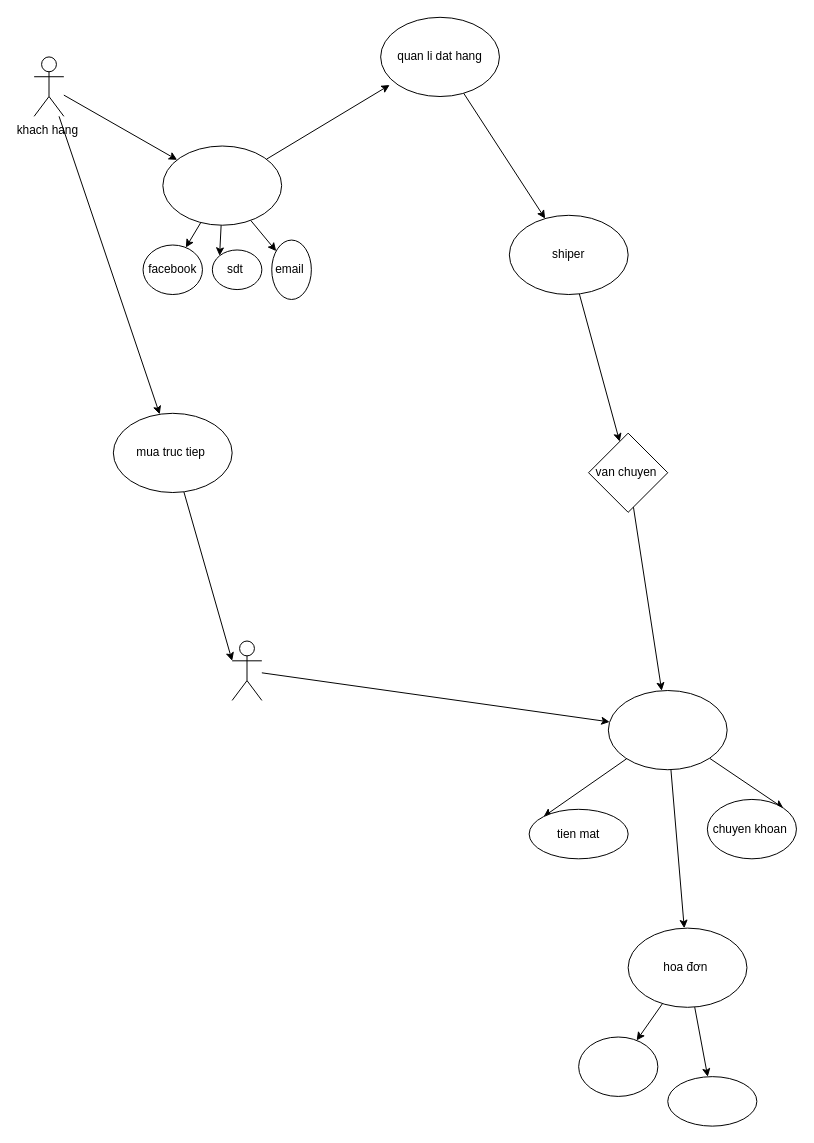
The diagram is 814 pixels wide and 1143 high, and some of its shapes have lost their labels. Here are the shapes that lost their labels. From the top down, the box of each, then its label:
(162, 145, 282, 225): dang ki tai khoan
(231, 640, 262, 700): nhan vien
(607, 690, 727, 770): thanh toan
(578, 1036, 658, 1096): thong tin hoa đơn
(667, 1076, 757, 1126): luu thong tin hoa don
